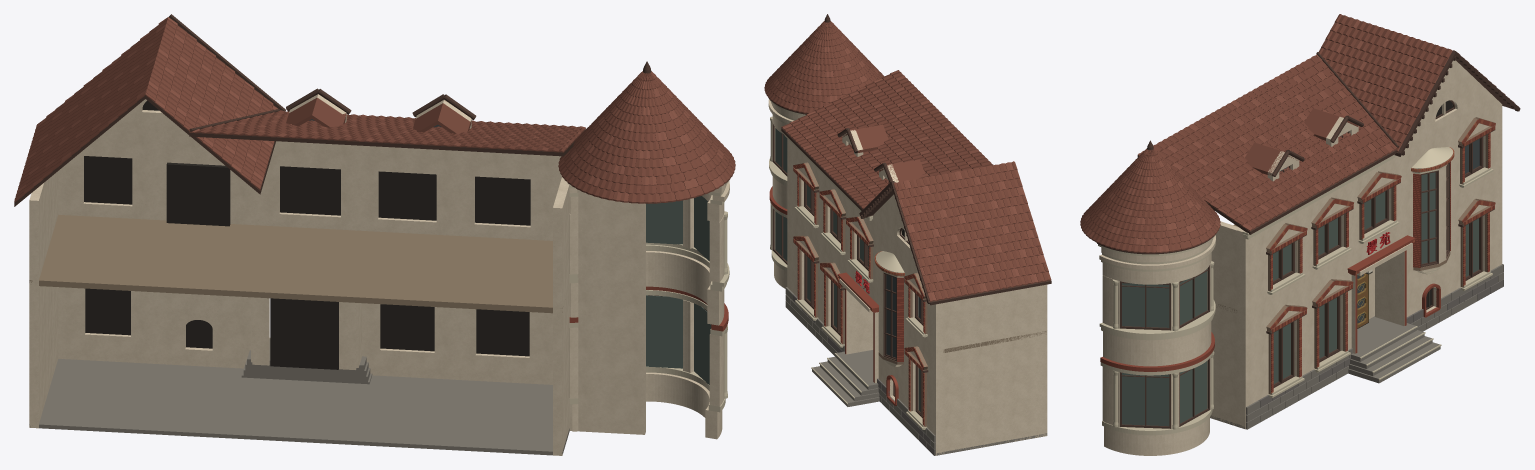
File: hongkou-yingyuan-villa-pedimented-entrance-web.glb
3 renders of one model, left to right at view 1: azimuth 30°, elevation 25°; view 2: azimuth 150°, elevation 25°; view 3: azimuth 270°, elevation 25°, orthographic. The views are drawn at different scales.
Visible parts, largest first — view 1: 樱苑别墅东北立面三角窗楣与题名门廊; view 2: 樱苑别墅东北立面三角窗楣与题名门廊; view 3: 樱苑别墅东北立面三角窗楣与题名门廊.
Part boxes in pixels (x1,y1,x2,y2): 樱苑别墅东北立面三角窗楣与题名门廊: (14,14,735,455); 樱苑别墅东北立面三角窗楣与题名门廊: (764,14,1051,455); 樱苑别墅东北立面三角窗楣与题名门廊: (1080,14,1520,455).
Size of the model in its own units: 17.58 by 11.18 by 15.38.
Materials: 20 (1 with a texture image).
